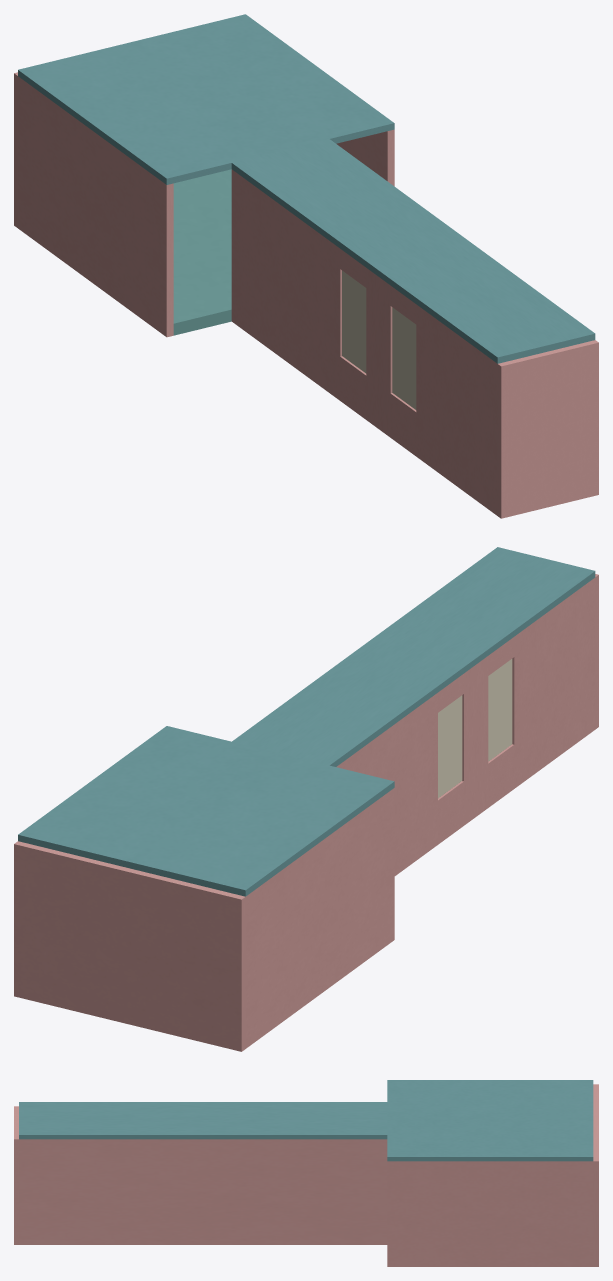
The model's file is Pasillo_Ondas.fbx.
3 renders of one model, top to bottom at view 1: azimuth 30°, elevation 25°; view 2: azimuth 150°, elevation 25°; view 3: azimuth 270°, elevation 25°, orthographic. The views are drawn at different scales.
Visible parts, largest first — view 1: GEO-DREAM-wavecorridor-hall_ceiling, GEO-DREAM-wavecorridor-ceiling, GEO-DREAM-wavecorridor-hall_side_-1, GEO-DREAM-wavecorridor-left_wall_after_doors, GEO-DREAM-wavecorridor-detail_entry_closure_inferred, GEO-DREAM-wavecorridor-left_wall_before_door_0, GEO-DREAM-wavecorridor-hall_floor, GEO-DREAM-wavecorridor-left_wall_before_door_1, GEO-DREAM-wavecorridor-door_1_leaf, GEO-DREAM-wavecorridor-door_0_leaf, GEO-DREAM-wavecorridor-hall_side_1, GEO-DREAM-wavecorridor-left_wall_below_door_0 (+1 smaller); view 2: GEO-DREAM-wavecorridor-hall_back_wall, GEO-DREAM-wavecorridor-hall_ceiling, GEO-DREAM-wavecorridor-ceiling, GEO-DREAM-wavecorridor-hall_side_-1, GEO-DREAM-wavecorridor-left_wall_before_door_0, GEO-DREAM-wavecorridor-left_wall_after_doors, GEO-DREAM-wavecorridor-left_wall_before_door_1, GEO-DREAM-wavecorridor-door_1_leaf, GEO-DREAM-wavecorridor-door_0_leaf, GEO-DREAM-wavecorridor-left_wall_below_door_0, GEO-DREAM-wavecorridor-left_wall_below_door_1; view 3: GEO-DREAM-wavecorridor-right_wall, GEO-DREAM-wavecorridor-hall_side_1, GEO-DREAM-wavecorridor-hall_ceiling, GEO-DREAM-wavecorridor-ceiling, GEO-DREAM-wavecorridor-hall_back_wall, GEO-DREAM-wavecorridor-detail_entry_closure_inferred.
Part boxes in pixels (x1,y1,x2,y2): GEO-DREAM-wavecorridor-hall_ceiling: (18, 14, 394, 184); GEO-DREAM-wavecorridor-ceiling: (231, 139, 595, 363); GEO-DREAM-wavecorridor-hall_side_-1: (18, 76, 173, 337); GEO-DREAM-wavecorridor-left_wall_after_doors: (231, 169, 341, 400); GEO-DREAM-wavecorridor-detail_entry_closure_inferred: (497, 340, 598, 518); GEO-DREAM-wavecorridor-left_wall_before_door_0: (416, 304, 497, 515); GEO-DREAM-wavecorridor-hall_floor: (173, 169, 231, 335); GEO-DREAM-wavecorridor-left_wall_before_door_1: (366, 268, 392, 437); GEO-DREAM-wavecorridor-door_1_leaf: (342, 270, 366, 373); GEO-DREAM-wavecorridor-door_0_leaf: (392, 307, 416, 409); GEO-DREAM-wavecorridor-hall_side_1: (336, 129, 394, 186); GEO-DREAM-wavecorridor-left_wall_below_door_0: (390, 393, 416, 456); GEO-DREAM-wavecorridor-hall_back_wall: (14, 841, 245, 1051); GEO-DREAM-wavecorridor-hall_ceiling: (18, 726, 394, 896); GEO-DREAM-wavecorridor-ceiling: (232, 547, 595, 766); GEO-DREAM-wavecorridor-hall_side_-1: (245, 788, 394, 1048); GEO-DREAM-wavecorridor-left_wall_before_door_0: (512, 578, 595, 788); GEO-DREAM-wavecorridor-left_wall_after_doors: (336, 693, 437, 875); GEO-DREAM-wavecorridor-left_wall_before_door_1: (462, 656, 488, 825); GEO-DREAM-wavecorridor-door_1_leaf: (438, 695, 462, 798); GEO-DREAM-wavecorridor-door_0_leaf: (488, 659, 512, 761); GEO-DREAM-wavecorridor-left_wall_below_door_0: (488, 744, 514, 807); GEO-DREAM-wavecorridor-left_wall_below_door_1: (438, 781, 463, 844); GEO-DREAM-wavecorridor-right_wall: (19, 1139, 387, 1244); GEO-DREAM-wavecorridor-hall_side_1: (387, 1161, 593, 1266); GEO-DREAM-wavecorridor-hall_ceiling: (387, 1080, 593, 1161); GEO-DREAM-wavecorridor-ceiling: (19, 1102, 387, 1139); GEO-DREAM-wavecorridor-hall_back_wall: (593, 1084, 598, 1266); GEO-DREAM-wavecorridor-detail_entry_closure_inferred: (14, 1106, 18, 1244).
Bounding box in the file's own units: 5.96 × 3.97 × 19.14.
